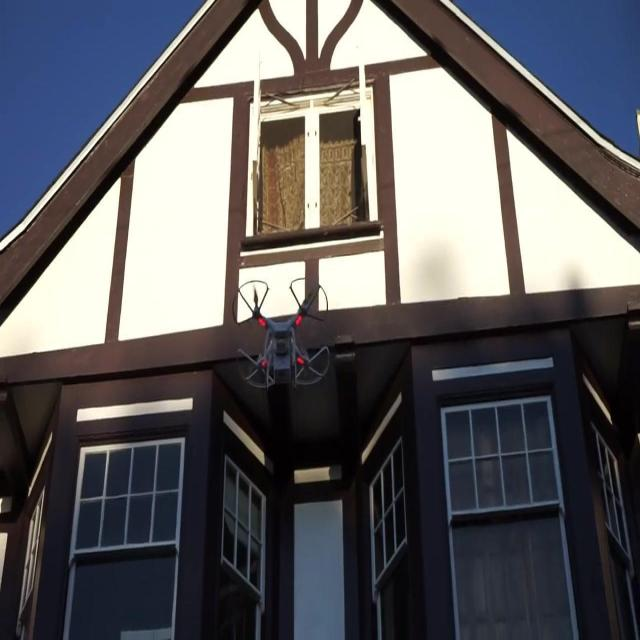drone: (231, 277, 331, 388)
